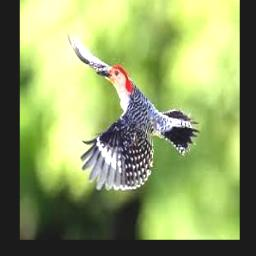Woodpecker: (67, 31, 198, 190)
